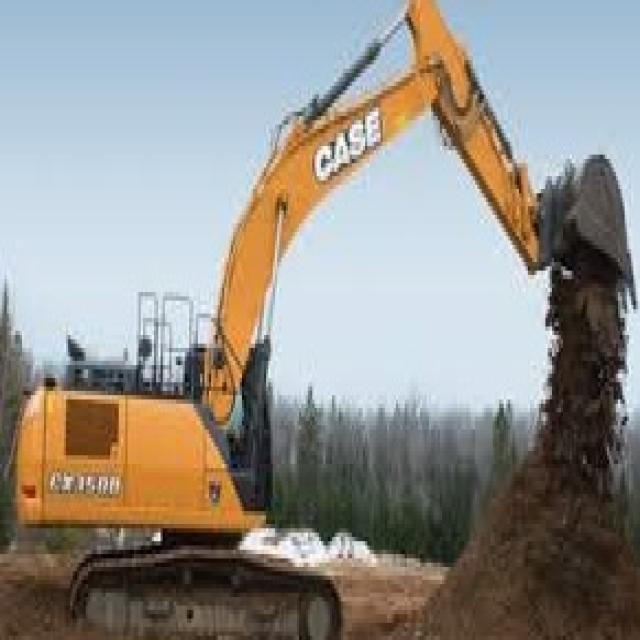excavator: (13, 11, 635, 632)
